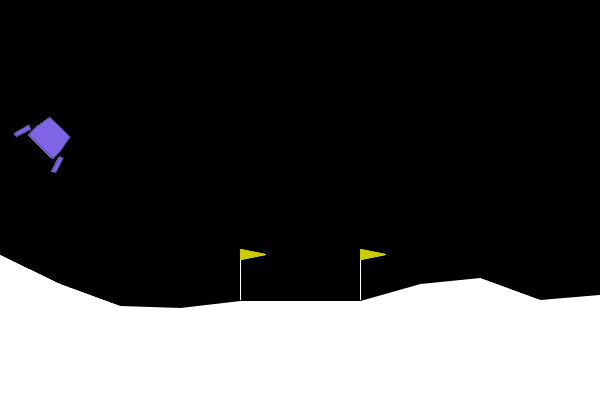lander: (12, 105, 83, 176)
